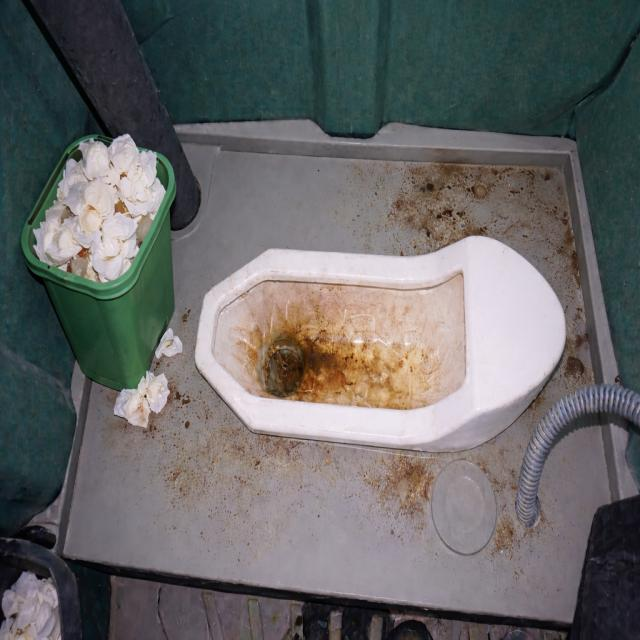dirty_area: (338, 152, 604, 390), (129, 389, 449, 569), (239, 286, 465, 402), (476, 439, 557, 586)
garbage: (3, 563, 63, 640)
overflow_bin: (6, 110, 187, 447)
